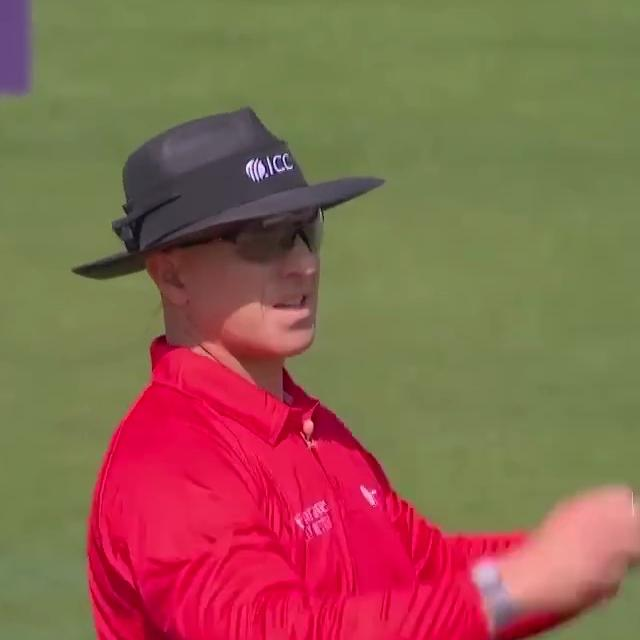umpire: (14, 54, 640, 640)
